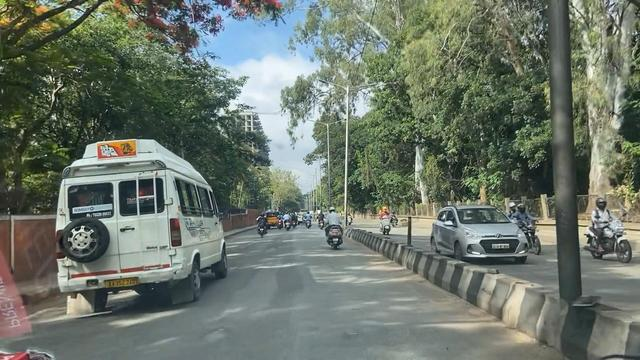HMV: (55, 147, 198, 309)
LMV: (325, 200, 339, 250), (259, 210, 268, 240)
